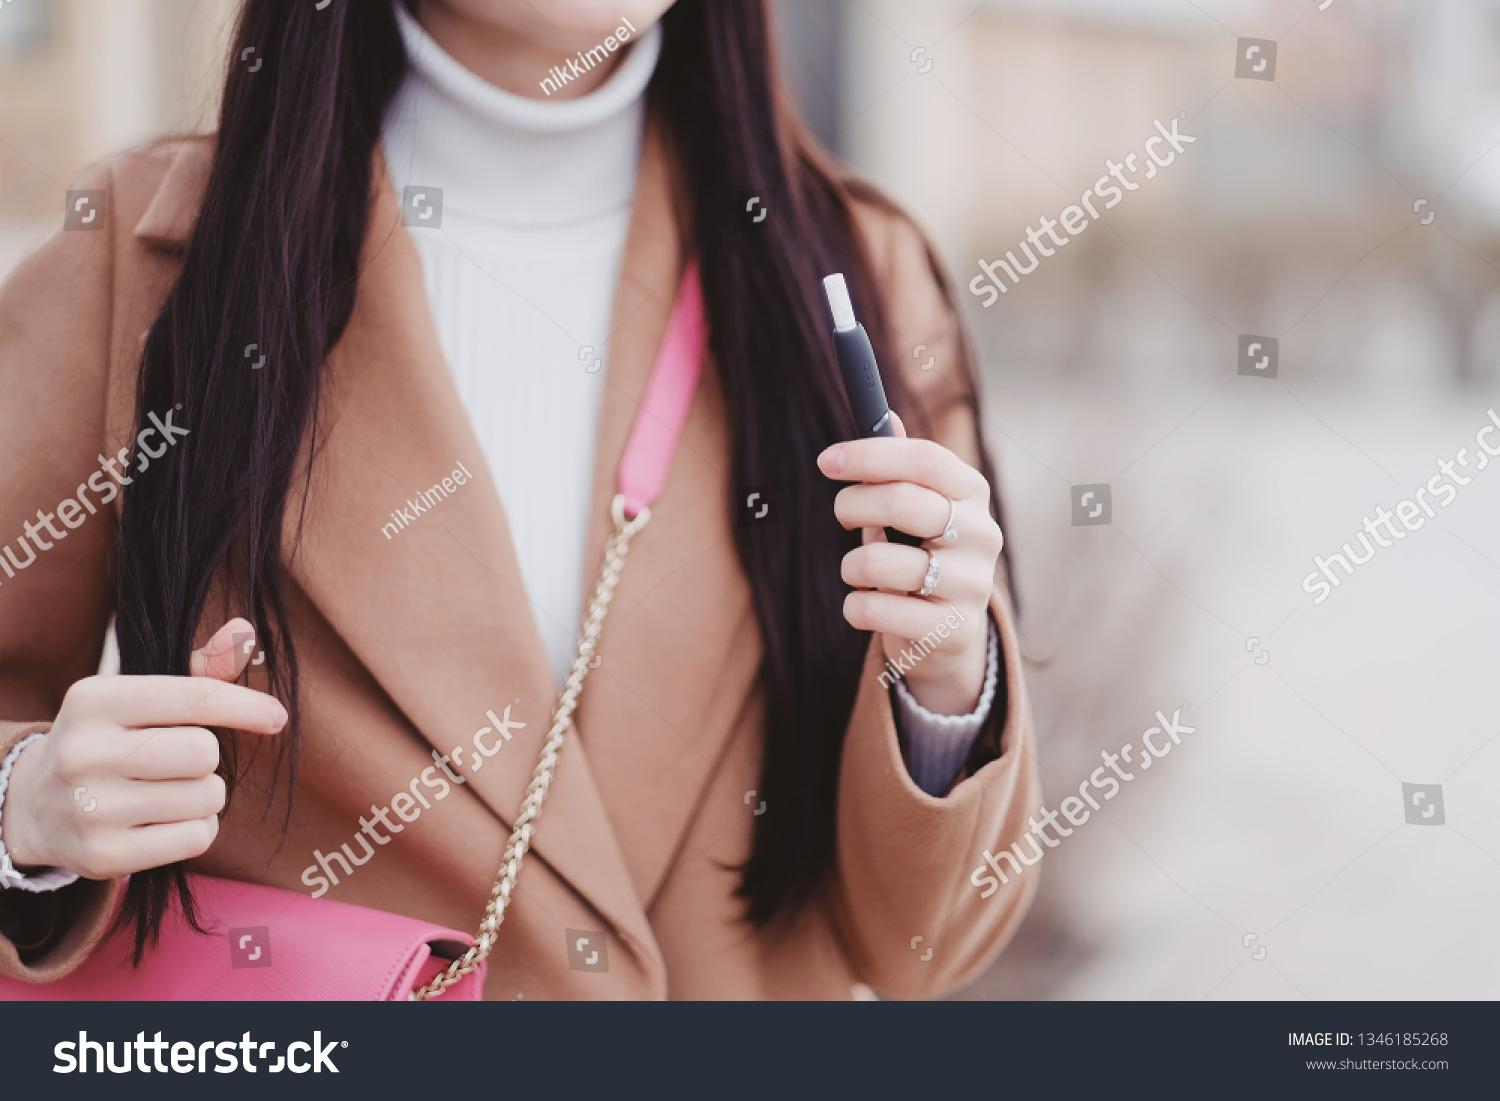iqos: (822, 271, 925, 546)
